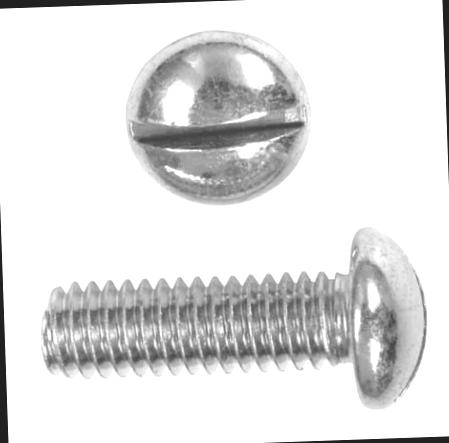slotted: (126, 29, 312, 211)
